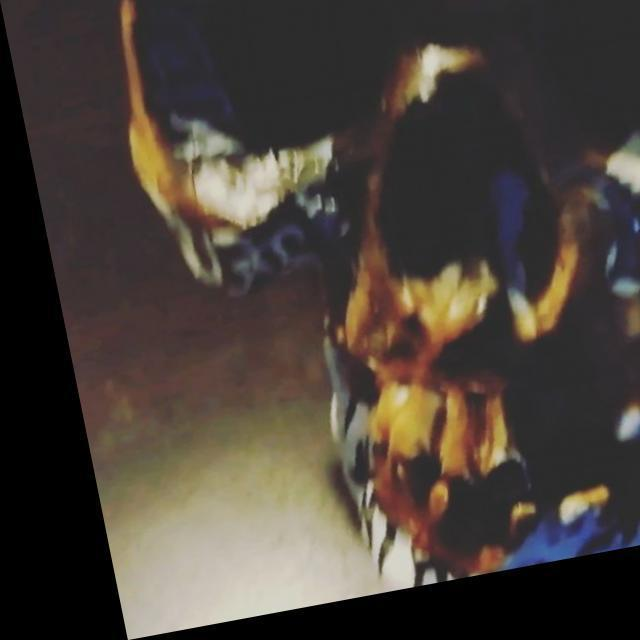-: (27, 0, 640, 636)
